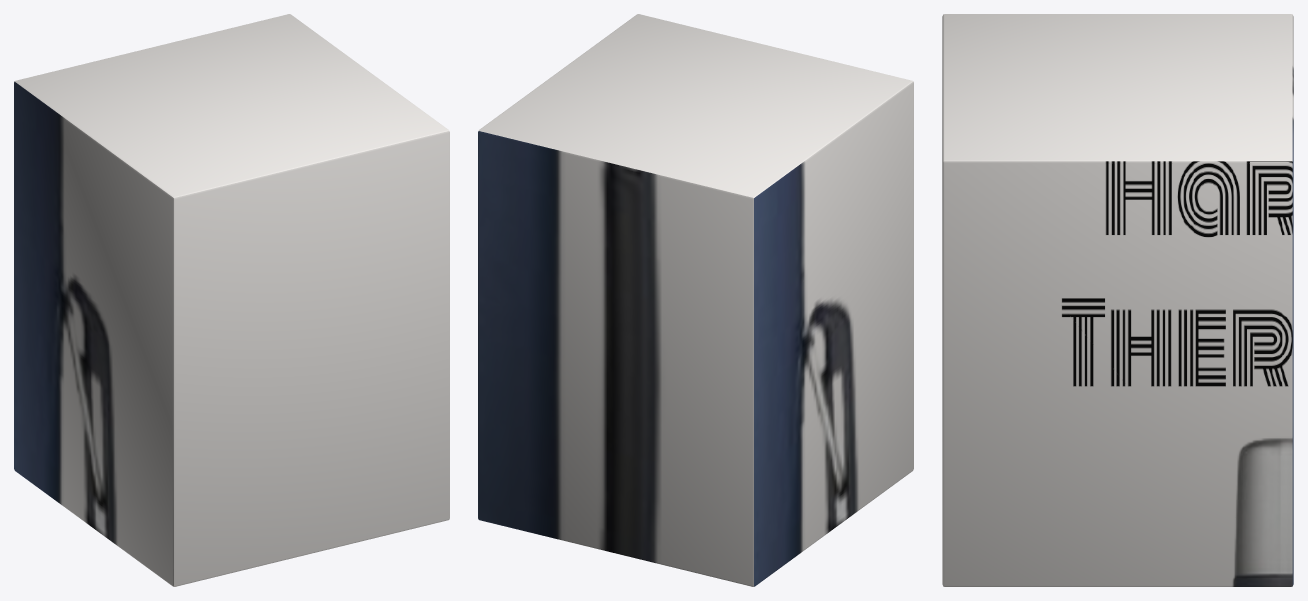
The model's file is SmallProduct01.fbx.
3 views of the same model, side by side, from view 1: azimuth 30°, elevation 25°; view 2: azimuth 150°, elevation 25°; view 3: azimuth 270°, elevation 25° (orthographic). The views are drawn at different scales.
Parts seen in each view (by area): view 1: Small_Product; view 2: Small_Product; view 3: Small_Product.
Boxes of the visible parts, bbox=[...] form: Small_Product: bbox=[14, 14, 449, 586]; Small_Product: bbox=[478, 14, 913, 586]; Small_Product: bbox=[942, 14, 1293, 586].
Size of the model in its own units: 0.4967 by 0.6687 by 0.4981.
